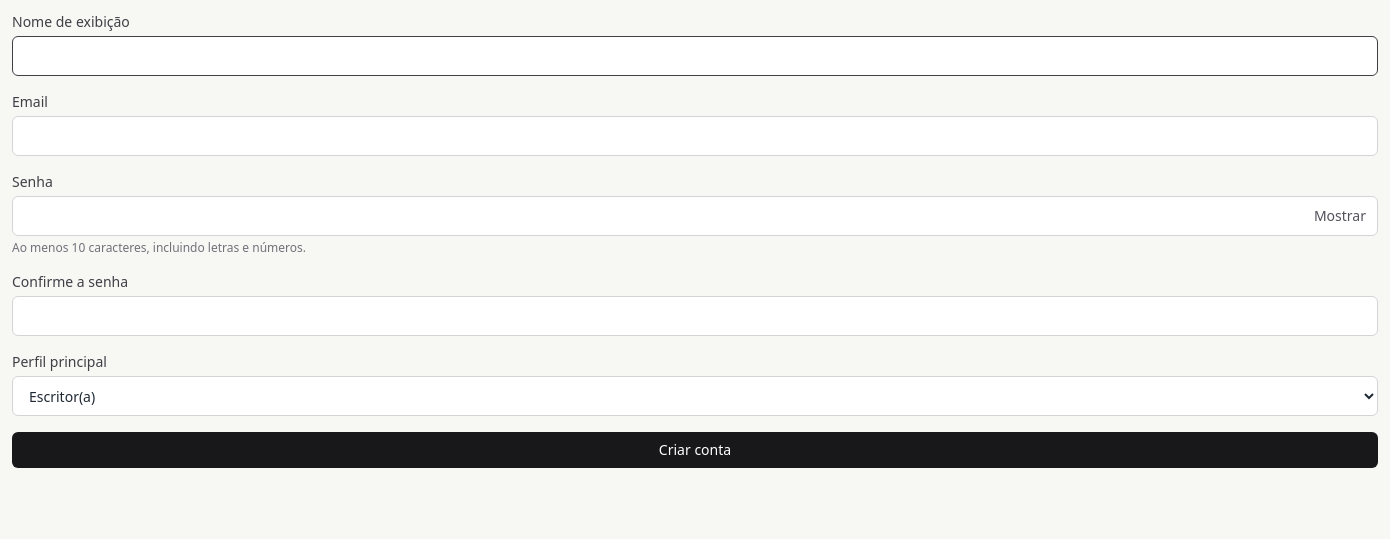
Scenario: RegisterForm › recusa email com letra acentuada (política ASCII-somente)
Type "Nova Autora" into the field labelled "Nome de exibição" at (695, 56), box [12, 36, 1378, 76]
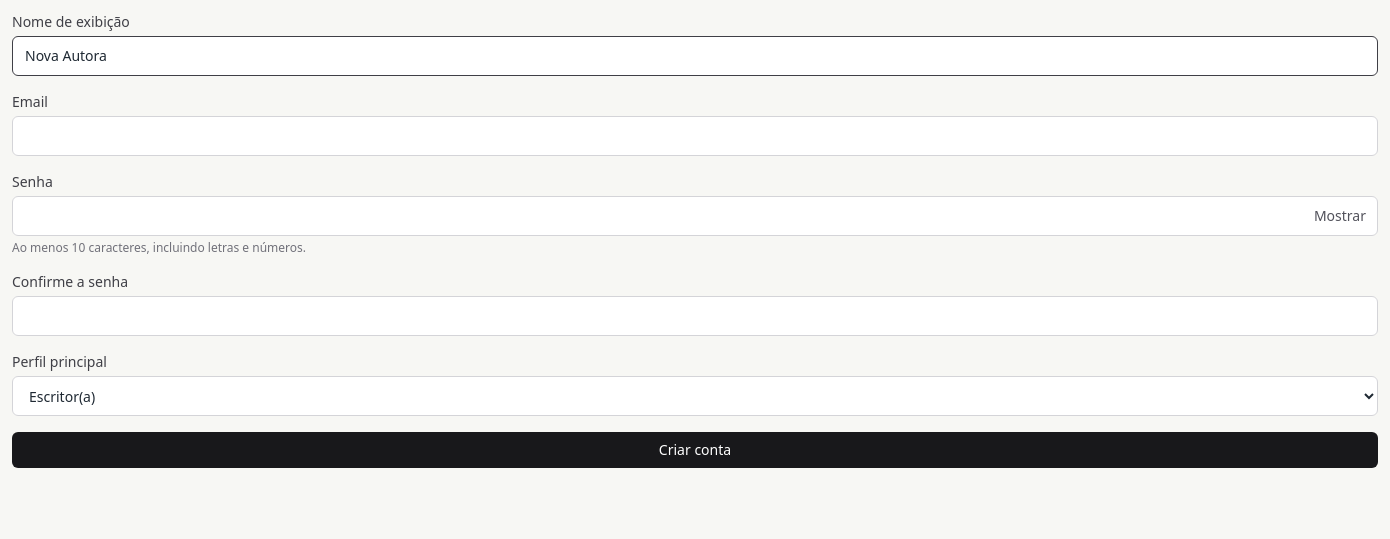
Type "usuária@iwrite.local" into the field labelled "Email" at (695, 136), box [12, 116, 1378, 156]
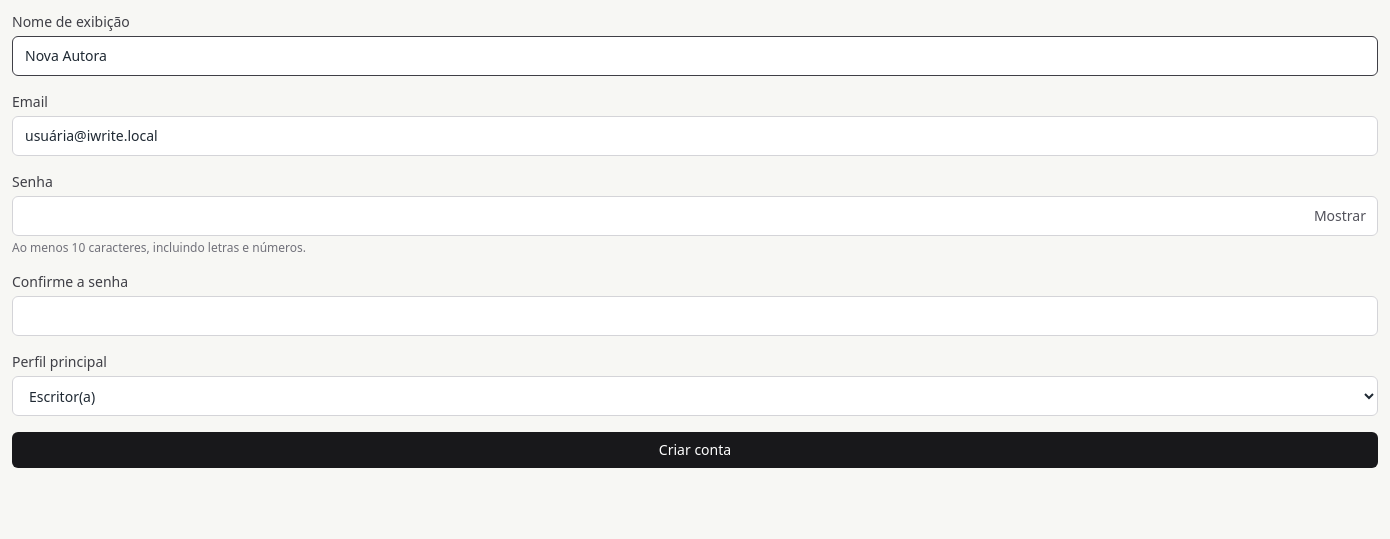
Type "senha-valida-1" into the password field labelled "Senha" at (695, 216), box [12, 196, 1378, 236]
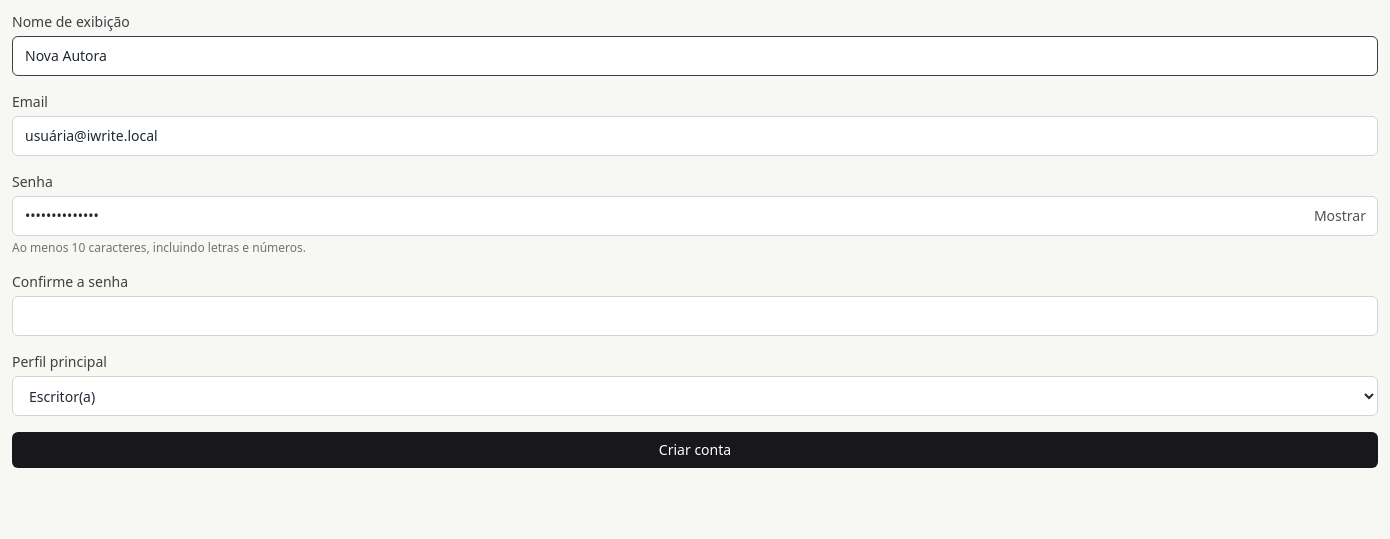
Type "senha-valida-1" into the password field labelled "Confirme a senha" at (695, 316), box [12, 296, 1378, 336]
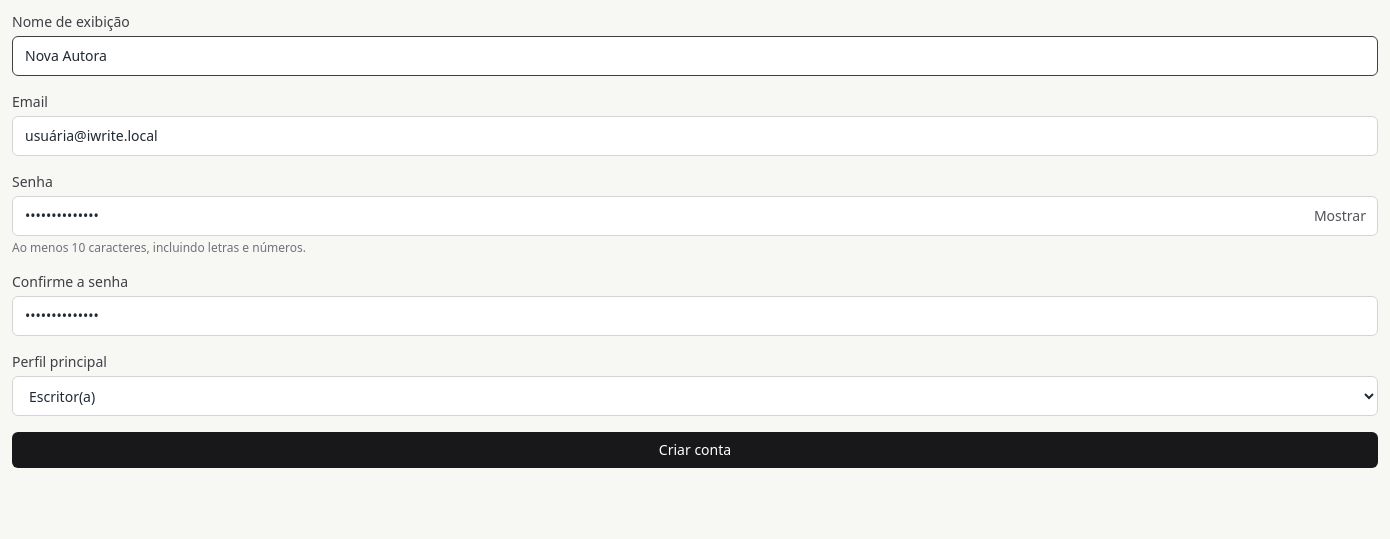
Click the button "Criar conta" at (695, 450), box [12, 432, 1378, 468]
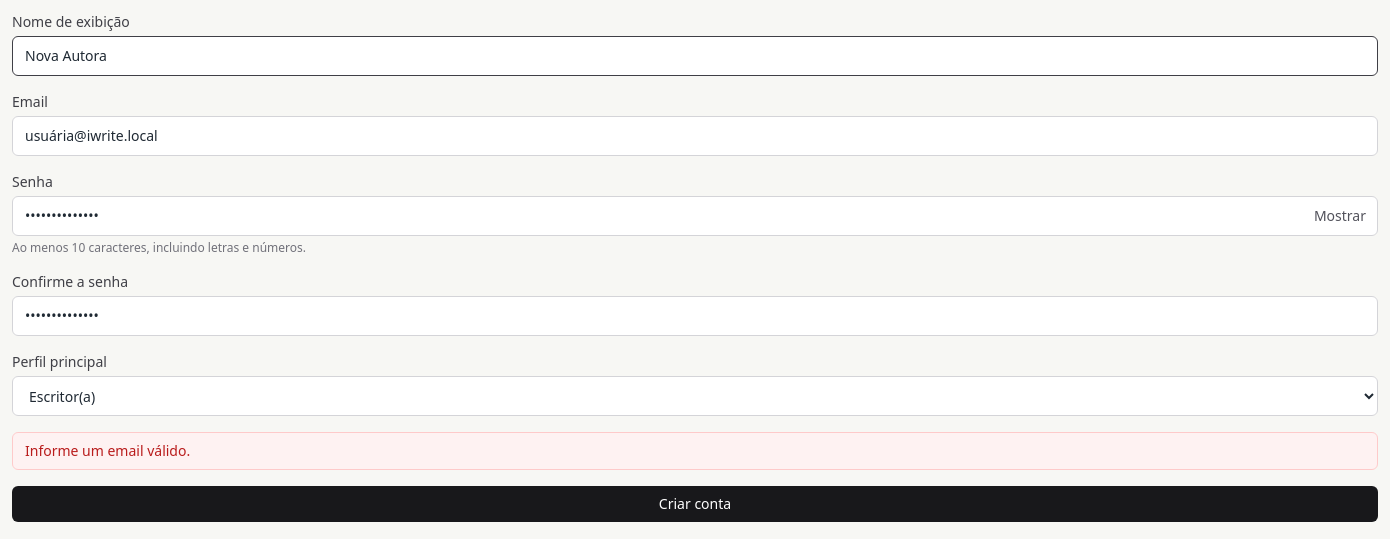
expect the message reads "Informe um email válido.": met, box [25, 441, 190, 460]
